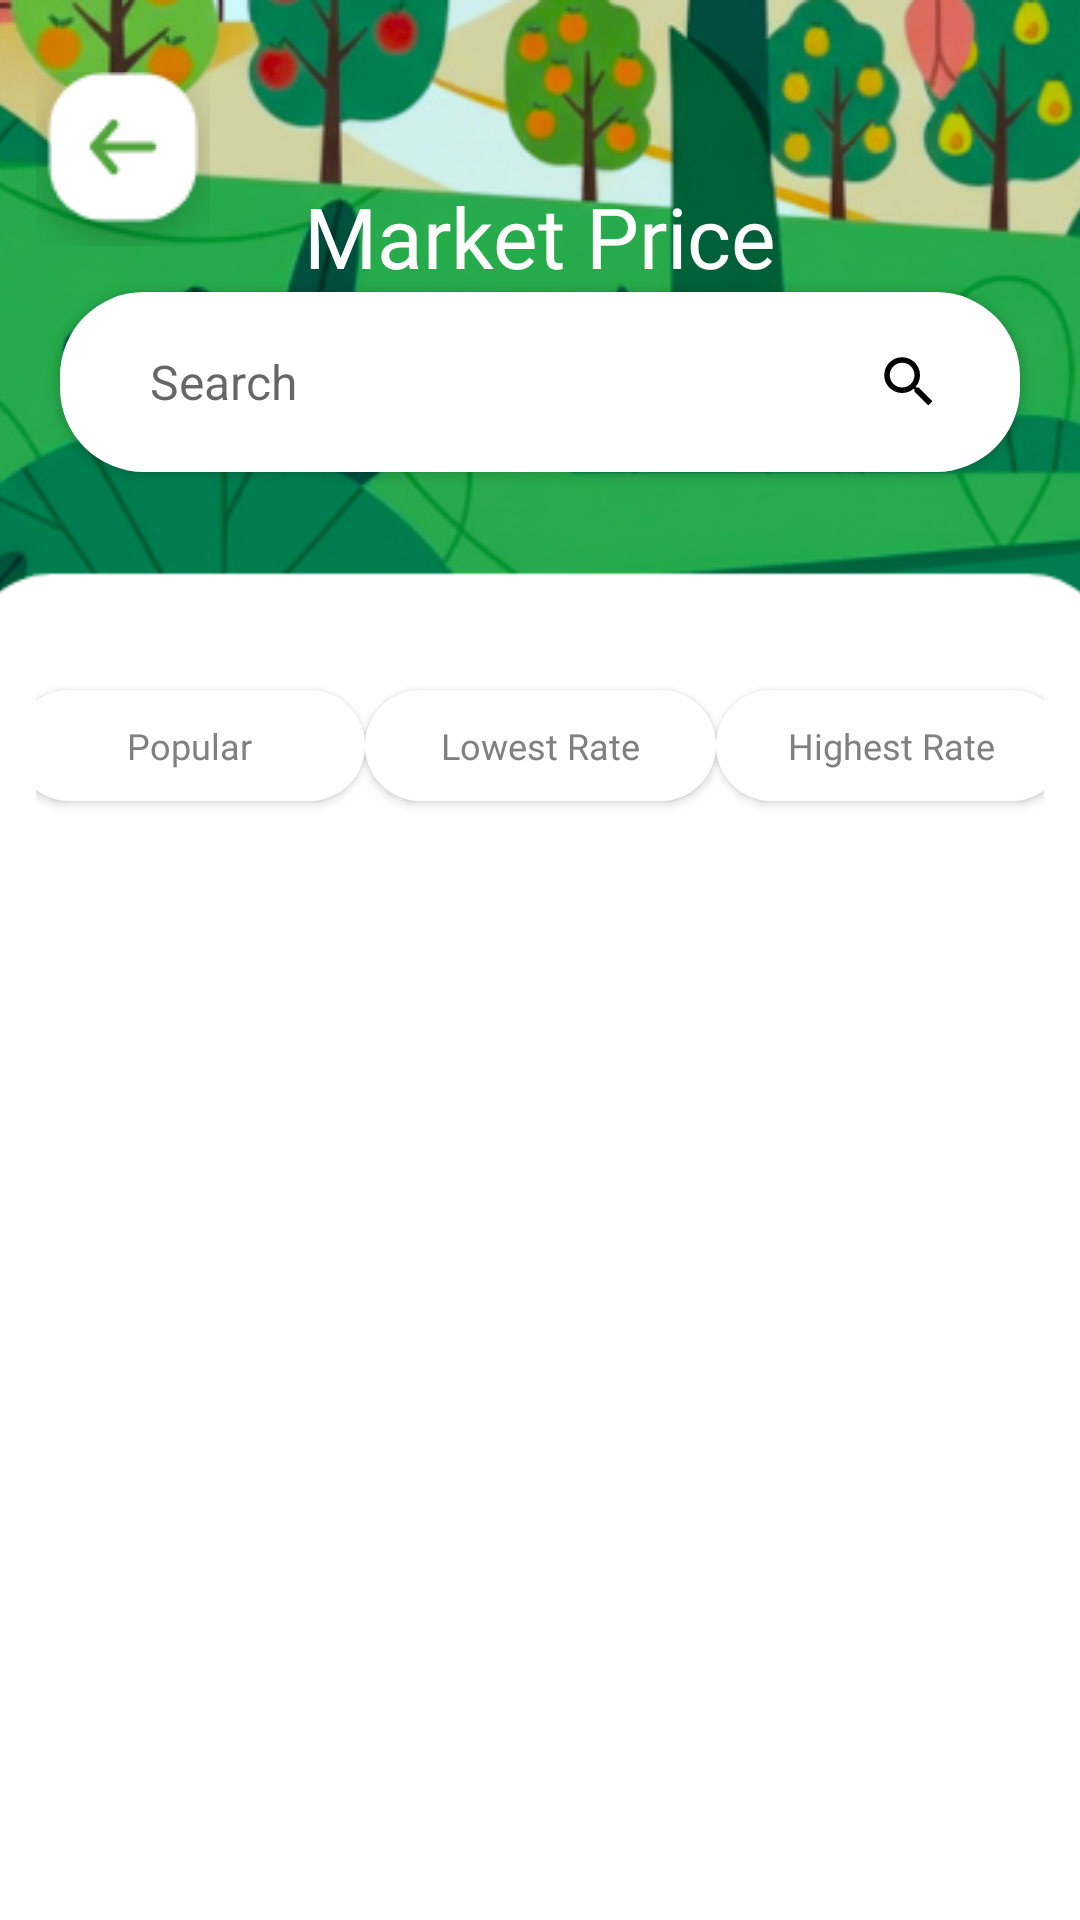

Screen size 1080*1920. Icon name, then its center in pixels as (x=x, y=y):
Back: (x=123, y=159)
